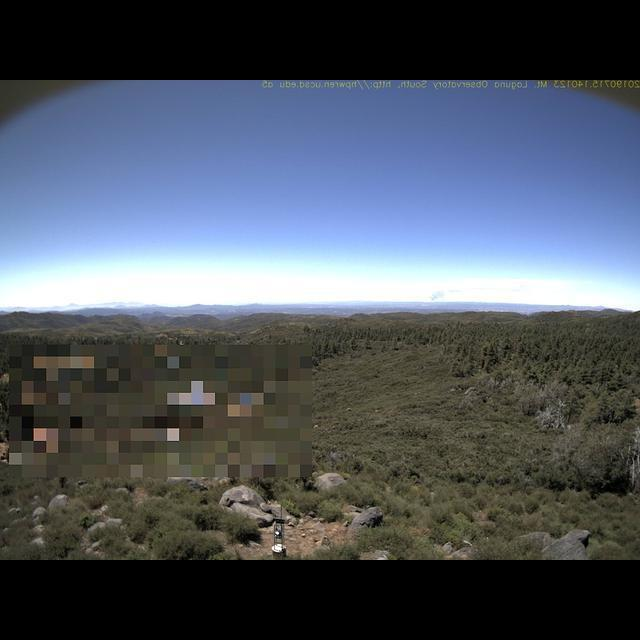Smoke: (425, 281, 463, 305)
